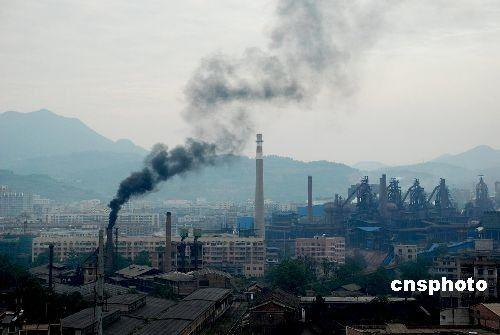smoke: (107, 95, 242, 234)
